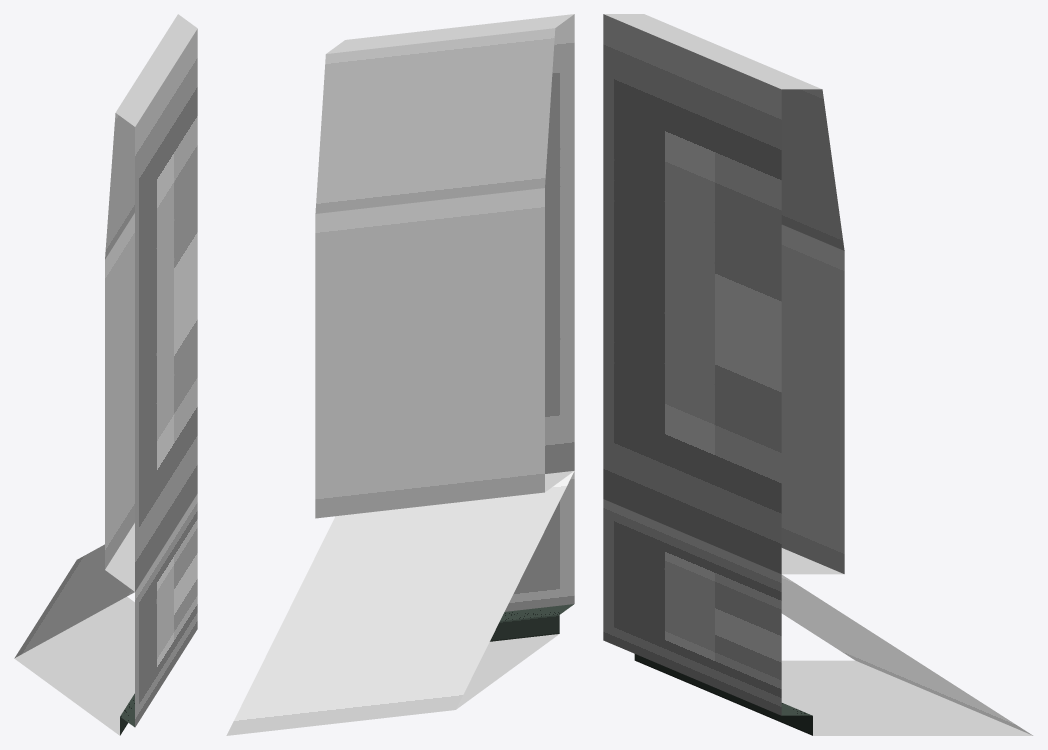
The model's file is run_tall_inside_unit_item.obj.
3 renders of one model, left to right at view 1: azimuth 30°, elevation 25°; view 2: azimuth 150°, elevation 25°; view 3: azimuth 270°, elevation 25°, orthographic. The views are drawn at different scales.
Bounding box in the file's own units: 1 × 4 × 2.41.
